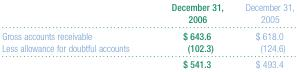table: (1, 1, 293, 69)
table column: (1, 1, 149, 69), (149, 1, 233, 69), (233, 1, 293, 69)
table column header: (1, 1, 293, 27)
table row: (1, 1, 293, 27), (1, 27, 293, 41), (1, 41, 293, 55), (1, 55, 293, 69)
